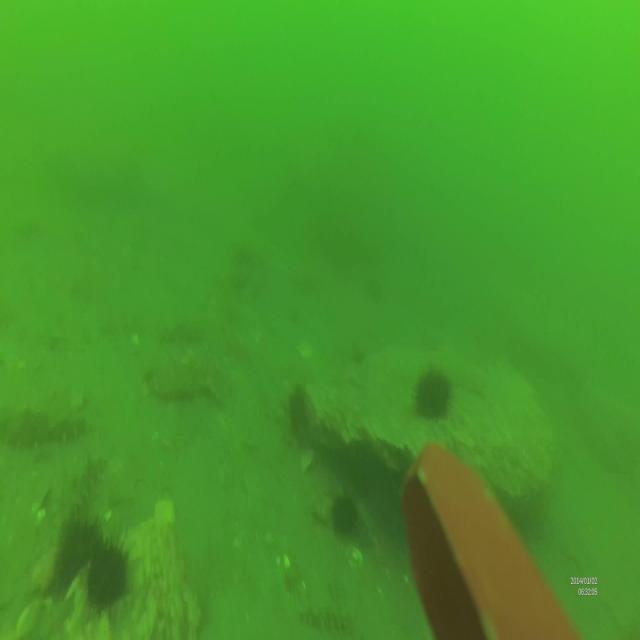echinus: (56, 509, 102, 591), (86, 534, 130, 610), (411, 362, 454, 422), (330, 491, 357, 538)
holothurian: (0, 393, 86, 451), (48, 449, 107, 517)
